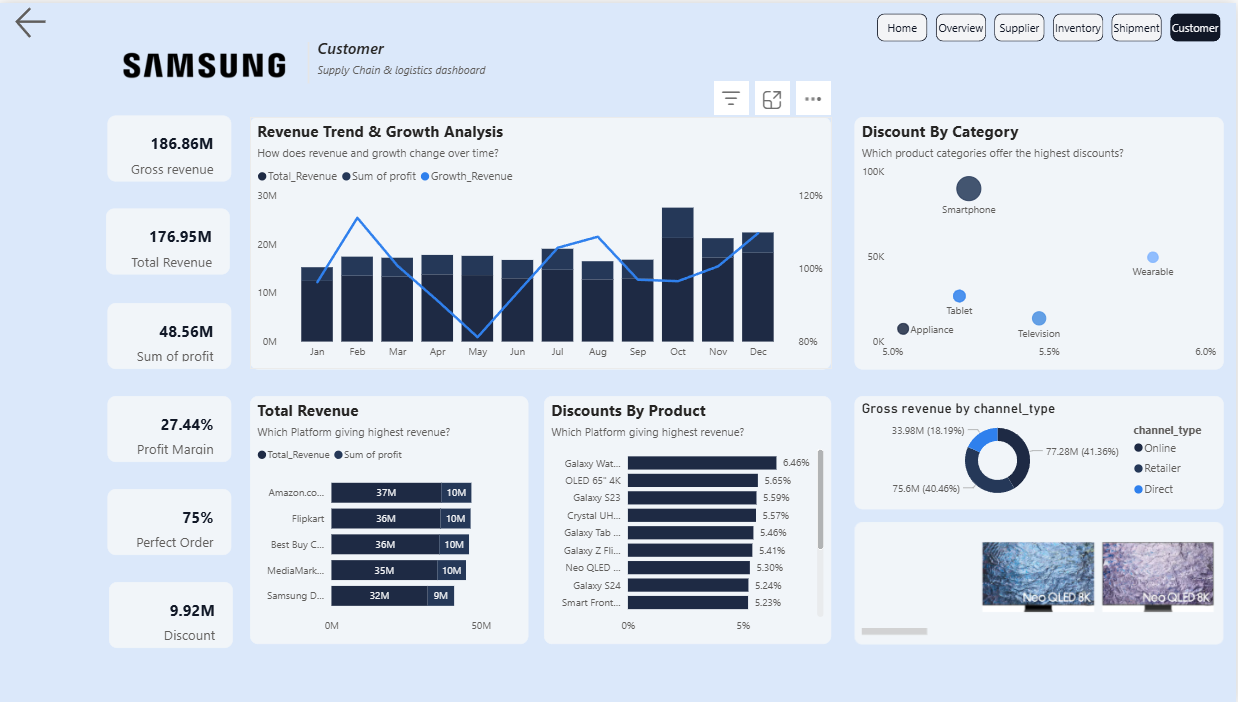

What the dashboard file says about the page in this screenshot:
{"tool":"powerbi","page":{"name":"Customer","canvas":[1500,850],"ordinal":5},"visuals":[{"type":"shape","title":"Customer","box":[387.1,41.4,275.7,135.7],"z":0},{"type":"shape","box":[315.7,47.1,120,50],"z":1000},{"type":"image","box":[131.4,12.9,228.6,124.3],"z":2000},{"type":"cardVisual","fields":{"Data":["MeasuresTable.Total_Revenue"]},"box":[131.3,249.7,150,80],"z":3000},{"type":"cardVisual","fields":{"Data":["MeasuresTable.Profit Margin %"]},"box":[133.3,475.9,150,80],"z":4000},{"type":"cardVisual","fields":{"Data":["Sum(fact_sales.profit)"]},"box":[133.3,362.8,150,80],"z":5000},{"type":"cardVisual","fields":{"Data":["Sum(fact_sales.discount_amount)"]},"box":[134,702,150,80],"z":6000},{"type":"cardVisual","fields":{"Data":["MeasuresTable.Perfect_Order %"]},"box":[133.3,588.9,150,80],"z":7000},{"type":"cardVisual","fields":{"Data":["Sum(fact_sales.gross_revenue)"]},"box":[133.3,136.7,150,80],"z":8000},{"type":"barChart","title":"Total Revenue ","fields":{"Category":["dim_customer.customer_name"],"Y":["MeasuresTable.Total_Revenue","Sum(fact_sales.profit)"]},"box":[306.1,476.6,337.3,300.6],"z":9000},{"type":"donutChart","fields":{"Y":["Sum(fact_sales.gross_revenue)"],"Category":["dim_customer.channel_type"]},"box":[1037.5,476.6,447.3,137.5],"z":10000},{"type":"lineStackedColumnComboChart","title":"Revenue Trend & Growth Analysis","fields":{"Category":["dim_date.Month_Short"],"Y":["MeasuresTable.Total_Revenue","Sum(fact_sales.profit)"],"Y2":["MeasuresTable.Growth_Revenue"]},"box":[306.1,137.5,703.9,306.1],"z":11000},{"type":"scatterChart","title":"Discount By Category","fields":{"Category":["dim_product.category"],"X":["MeasuresTable.Discount %"],"Y":["Sum(fact_sales.quantity_sold)"],"Series":["dim_product.category"],"Size":["MeasuresTable.Total_Revenue"]},"box":[1037.5,137.5,447.3,306.1],"z":12000},{"type":"clusteredBarChart","title":"Discounts By Product","fields":{"Y":["MeasuresTable.Discount %"],"Category":["dim_product.product_name"]},"box":[661.7,476.6,348.3,300.6],"z":13000},{"type":"advancedSlicerVisual","fields":{"Values":["dim_product.product_name"]},"box":[1037.5,628.7,447.3,148.5],"z":14000},{"type":"pageNavigator","box":[1065,12.8,419.8,34.8],"z":15000},{"type":"actionButton","box":[16.5,0,60.5,47.7],"z":16000}]}

Visuals, with their boxes in screenshot pixels (x1, y1, x2, y2), scaled from the page's 1500x850 canvas onto the 1238x702 screenshot:
"Customer" shape: box(319, 34, 547, 146)
shape: box(261, 39, 360, 80)
image: box(108, 11, 297, 113)
cardVisual - MeasuresTable.Total_Revenue: box(108, 206, 232, 272)
cardVisual - MeasuresTable.Profit Margin %: box(110, 393, 234, 459)
cardVisual - Sum(fact_sales.profit): box(110, 300, 234, 366)
cardVisual - Sum(fact_sales.discount_amount): box(111, 580, 234, 646)
cardVisual - MeasuresTable.Perfect_Order %: box(110, 486, 234, 552)
cardVisual - Sum(fact_sales.gross_revenue): box(110, 113, 234, 179)
"Total Revenue " barChart: box(253, 394, 531, 642)
donutChart - Sum(fact_sales.gross_revenue) x dim_customer.channel_type: box(856, 394, 1225, 507)
"Revenue Trend & Growth Analysis" lineStackedColumnComboChart: box(253, 114, 834, 366)
"Discount By Category" scatterChart: box(856, 114, 1225, 366)
"Discounts By Product" clusteredBarChart: box(546, 394, 834, 642)
advancedSlicerVisual - dim_product.product_name: box(856, 519, 1225, 642)
pageNavigator: box(879, 11, 1225, 39)
actionButton: box(14, 0, 64, 39)
